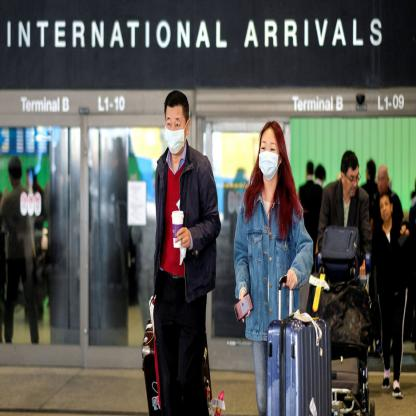Not_Wearing_Mask: (346, 167, 358, 199), (375, 167, 387, 191), (380, 196, 390, 223)
Wearing_Mask: (163, 103, 186, 156), (258, 130, 279, 182)
